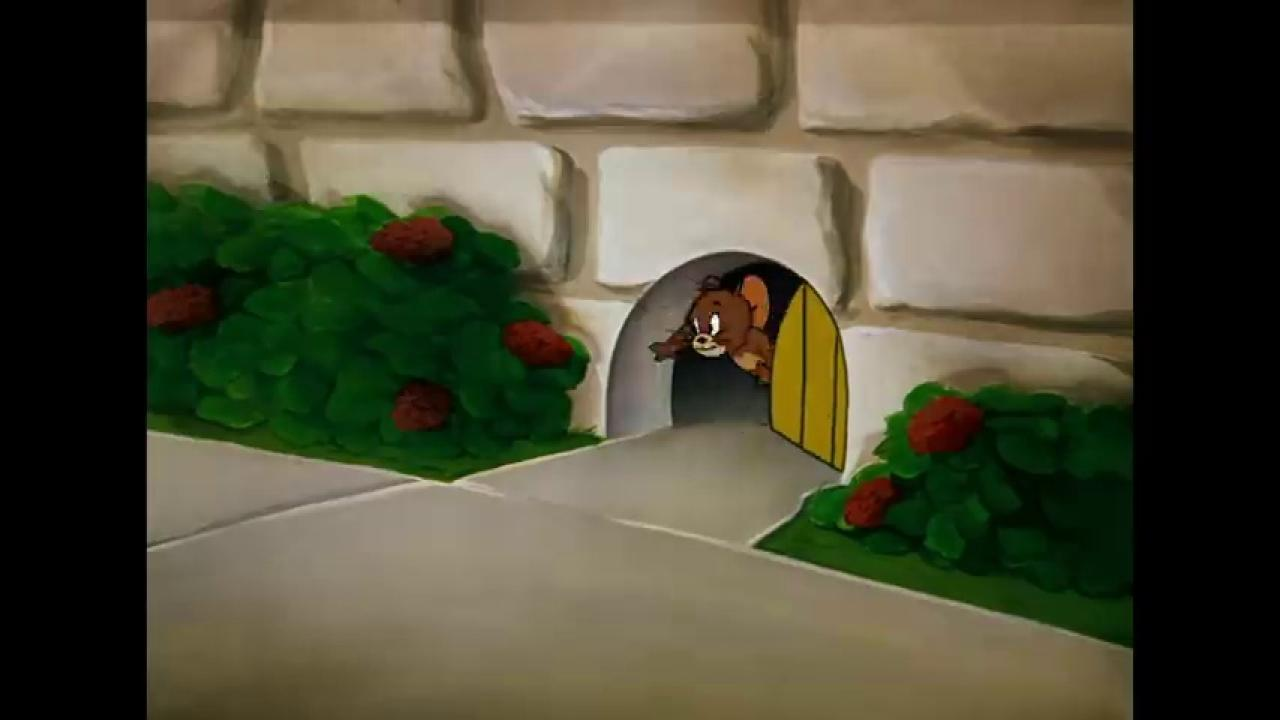Jerry: (646, 270, 778, 385)
